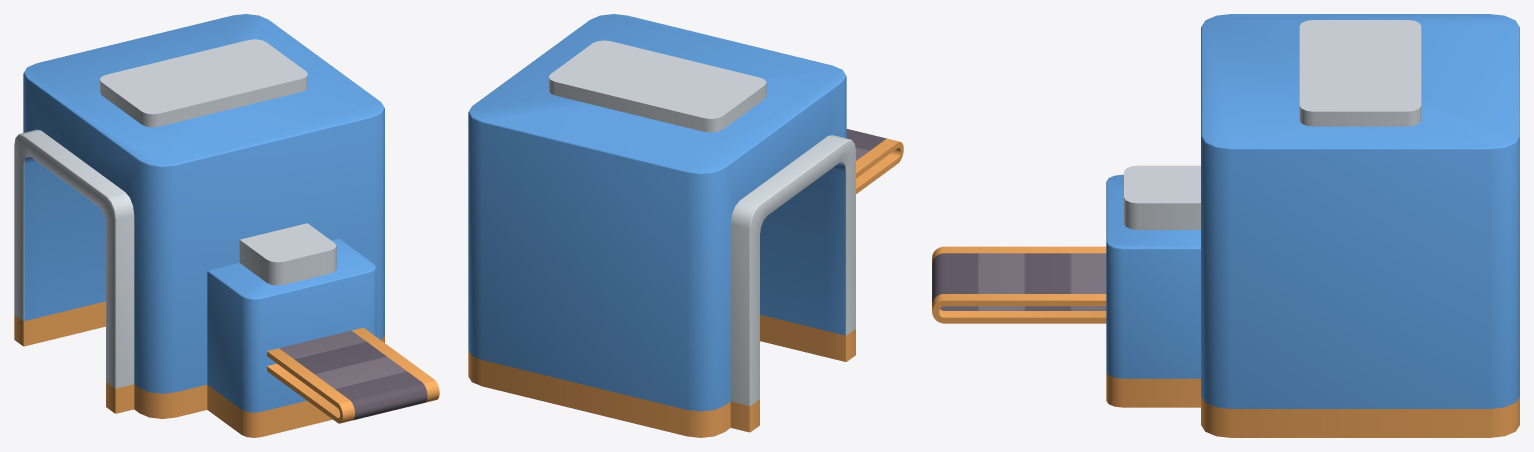
Rendered from ShopWithArc.fbx.
3 renders of one model, left to right at view 1: azimuth 30°, elevation 25°; view 2: azimuth 150°, elevation 25°; view 3: azimuth 270°, elevation 25°, orthographic. The views are drawn at different scales.
Parts seen in each view (by area): view 1: Base, Road; view 2: Base, Road; view 3: Base, Road.
Part boxes in pixels (x1,y1,x2,y2): Base: [14, 14, 439, 437]; Road: [279, 330, 427, 420]; Base: [468, 14, 903, 437]; Road: [846, 129, 886, 160]; Base: [932, 14, 1519, 437]; Road: [932, 253, 1106, 310].
Size of the model in its own units: 2.15 by 2.1 by 3.68.
